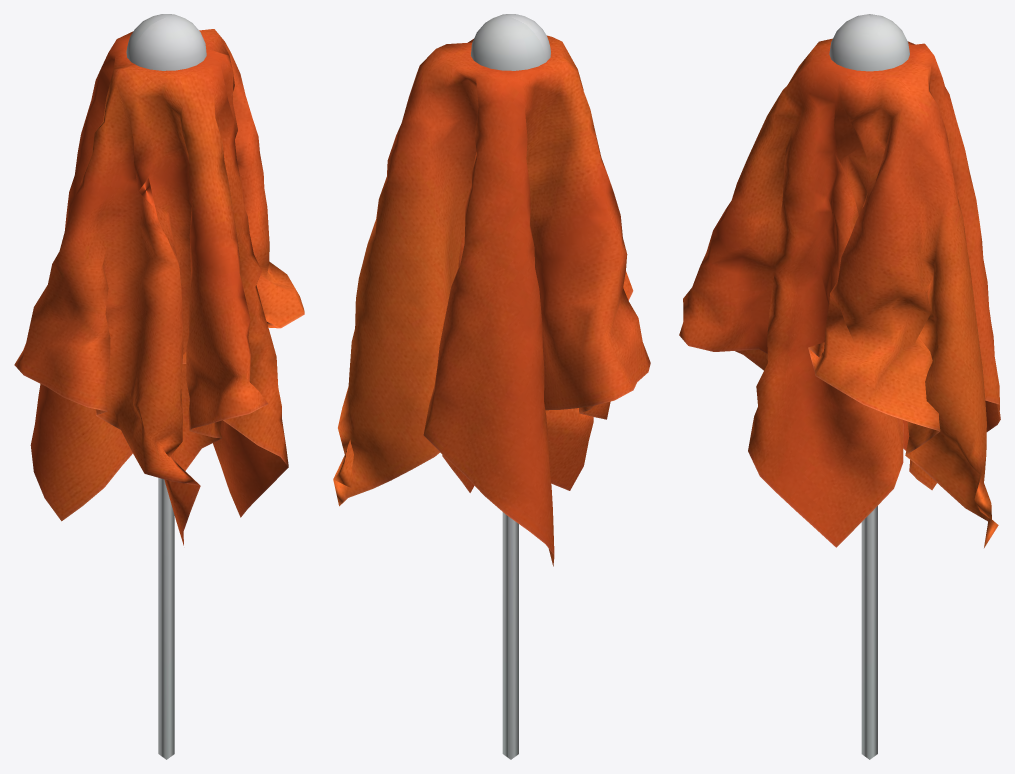
File: sun_umbrealla.FBX
3 views of the same model, side by side, from view 1: azimuth 30°, elevation 25°; view 2: azimuth 150°, elevation 25°; view 3: azimuth 270°, elevation 25° (orthographic).
Visible parts, largest first — view 1: Rectangle001, Cylinder001, GeoSphere001; view 2: Rectangle001, Cylinder001, GeoSphere001; view 3: Rectangle001, Cylinder001, GeoSphere001.
Boxes of the visible parts, x1,y1,x2,y2 form: Rectangle001: [14, 29, 304, 545]; Cylinder001: [158, 478, 174, 759]; GeoSphere001: [126, 14, 206, 70]; Rectangle001: [333, 35, 650, 566]; Cylinder001: [502, 512, 518, 759]; GeoSphere001: [471, 14, 550, 70]; Rectangle001: [679, 38, 1000, 547]; Cylinder001: [861, 506, 877, 759]; GeoSphere001: [829, 14, 909, 71].
Size of the model in its own units: 22.83 by 60.4 by 23.86.
2 materials, 2 textured.
